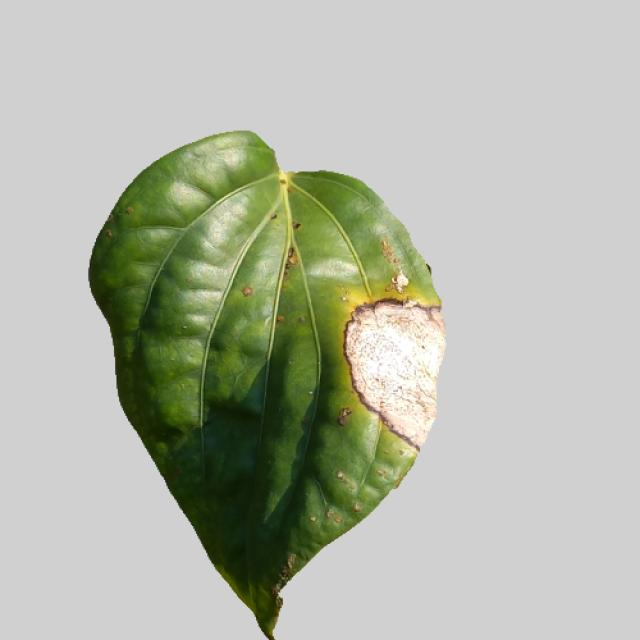leaf-blight: (78, 136, 443, 635)
